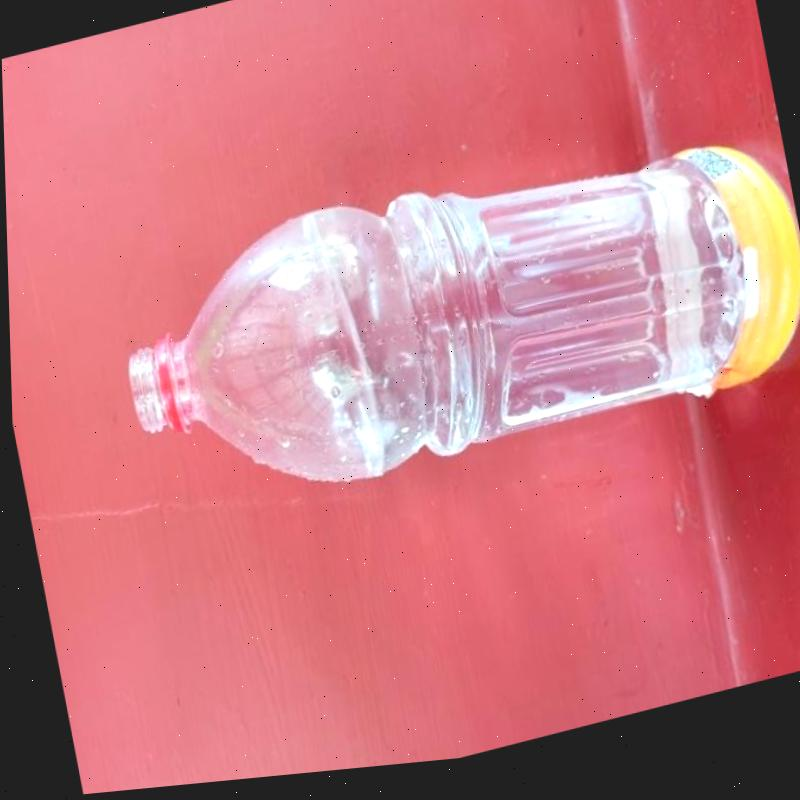botella: (98, 106, 800, 544)
